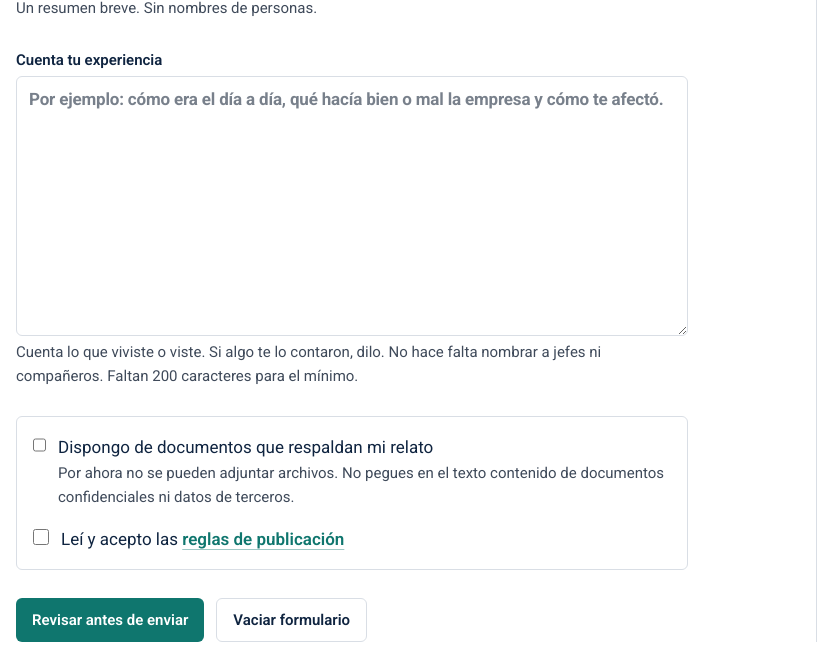
Test: compartir una experiencia › muestra errores junto a cada campo si faltan datos
This screenshot has width=834, height=659.
(page scrolled)
Click the button "Revisar antes de enviar" at (110, 620), box [16,598,204,642]
(page scrolled)
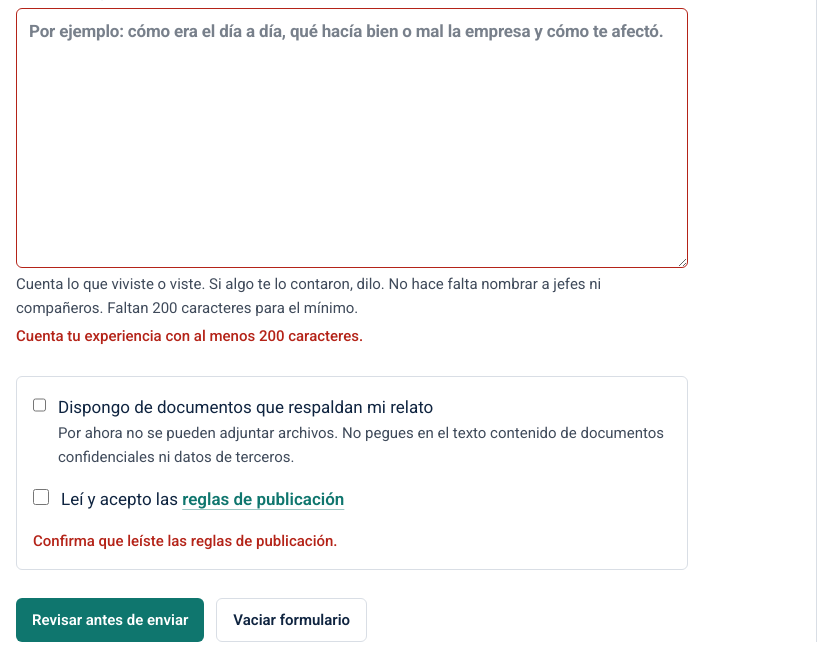
Expected: the text "Confirma que leíste las reglas de publicación." is shown, [33,532,338,550]
